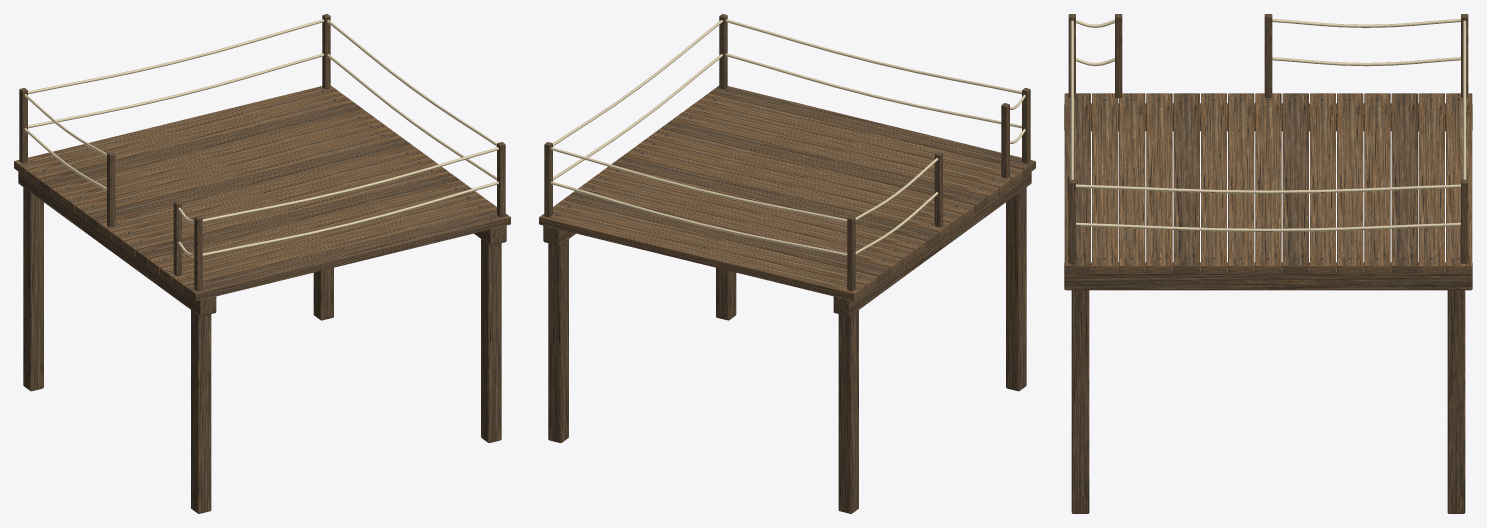
The model's file is east_store_platform.glb.
3 renders of one model, left to right at view 1: azimuth 30°, elevation 25°; view 2: azimuth 150°, elevation 25°; view 3: azimuth 270°, elevation 25°, orthographic. The views are drawn at different scales.
Parts seen in each view (by area): view 1: east_store_platform_mesh; view 2: east_store_platform_mesh; view 3: east_store_platform_mesh.
Part boxes in pixels (<box>): east_store_platform_mesh: <box>14,14,510,513</box>; east_store_platform_mesh: <box>539,14,1035,513</box>; east_store_platform_mesh: <box>1064,14,1472,513</box>.
Bounding box in the file's own units: 3 × 2.7 × 3.
Materials: 4 (2 with a texture image).
